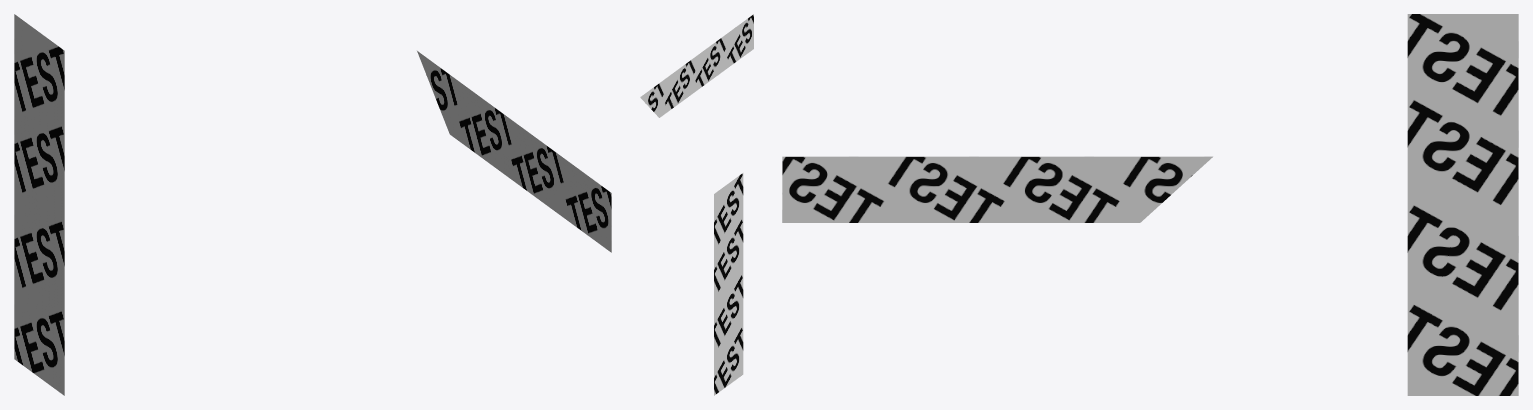
File: Booth_Panel.glb
3 views of the same model, side by side, from view 1: azimuth 30°, elevation 25°; view 2: azimuth 150°, elevation 25°; view 3: azimuth 270°, elevation 25° (orthographic). The views are drawn at different scales.
Parts seen in each view (by area): view 1: NamePanelVertical, NamePanelHorizontal; view 2: NamePanelVertical, NamePanelHorizontal; view 3: NamePanelVertical, NamePanelHorizontal.
Boxes of the visible parts, left/top/right/bottom form: NamePanelVertical: left=14, top=14, right=64, bottom=395; NamePanelHorizontal: left=417, top=51, right=611, bottom=252; NamePanelVertical: left=714, top=173, right=743, bottom=395; NamePanelHorizontal: left=640, top=14, right=753, bottom=117; NamePanelVertical: left=1407, top=14, right=1518, bottom=395; NamePanelHorizontal: left=782, top=156, right=1212, bottom=222.
Bounding box in the file's own units: 2.4 × 3 × 5.24.
Materials: 2 (2 with a texture image).
